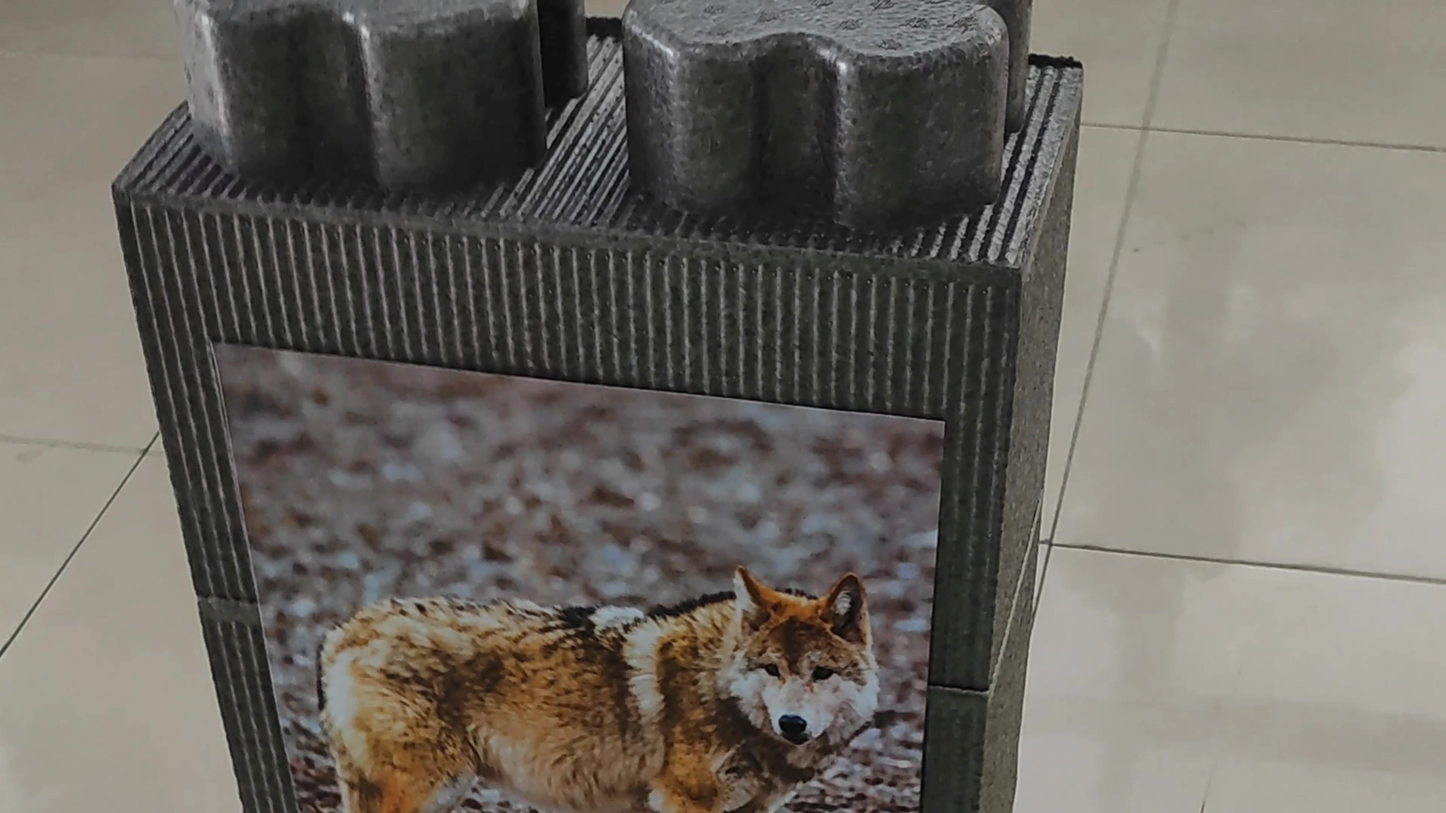wolf: (284, 460, 917, 813)
